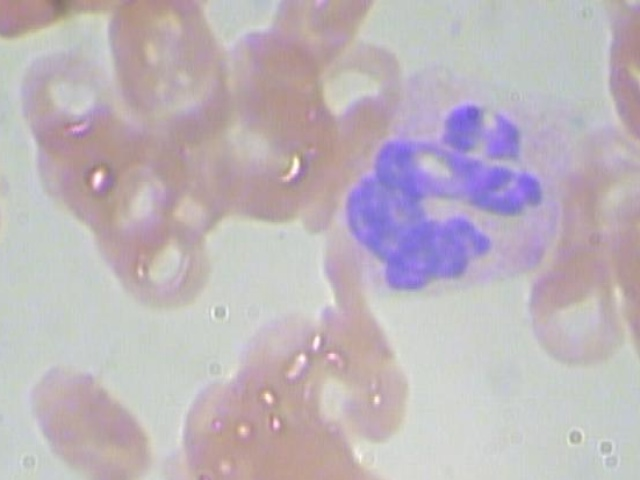Platelets: (524, 0, 567, 2)
RBC: (101, 0, 237, 133), (23, 353, 155, 480), (520, 252, 628, 373), (100, 203, 213, 310), (9, 39, 122, 146), (168, 369, 261, 474), (260, 0, 380, 65), (594, 1, 640, 150), (619, 255, 640, 369), (622, 295, 640, 401)
WBC: (337, 67, 588, 305)
